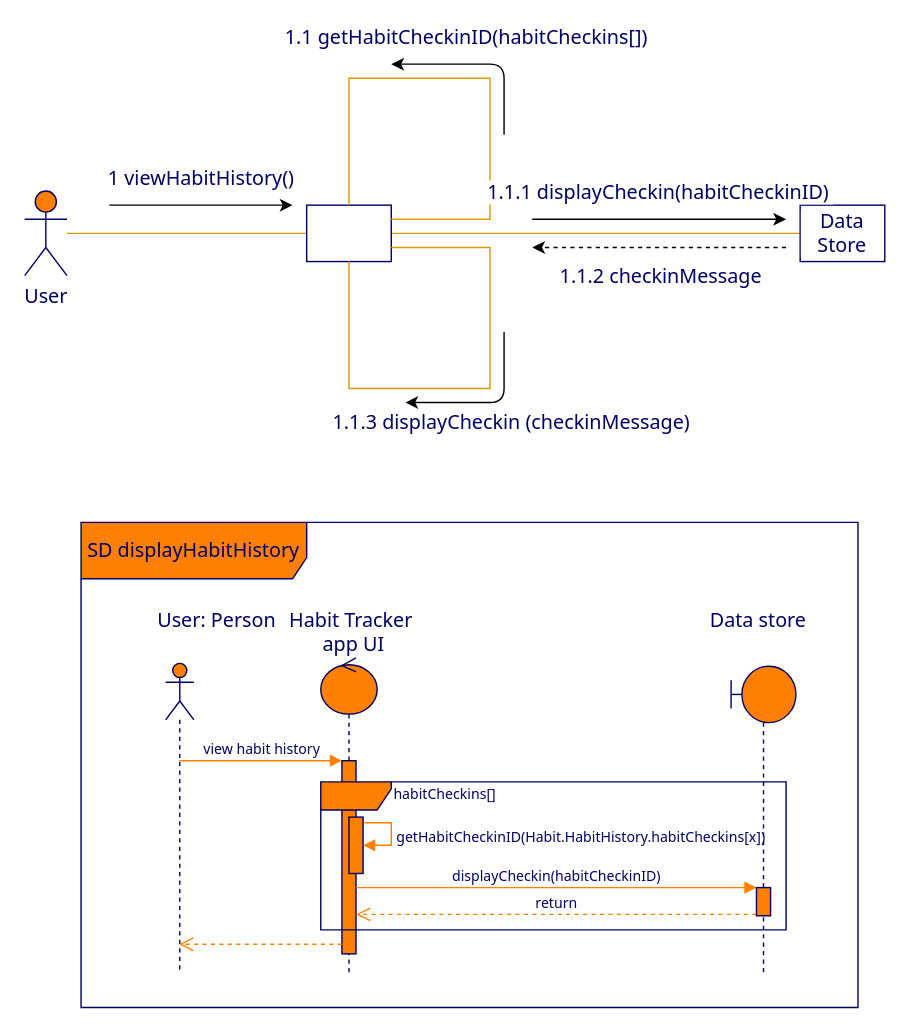
Some shapes in this 909 by 1032 pixel diagram are drawn without their labels. The centre of each missing label's shape, as x and y in pixels:
loop: (552,855)
UI: (348,233)
